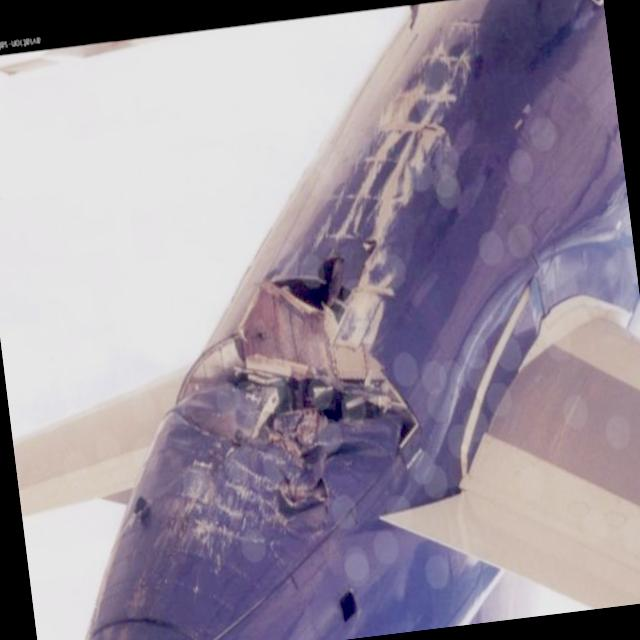crack: (210, 242, 430, 528)
